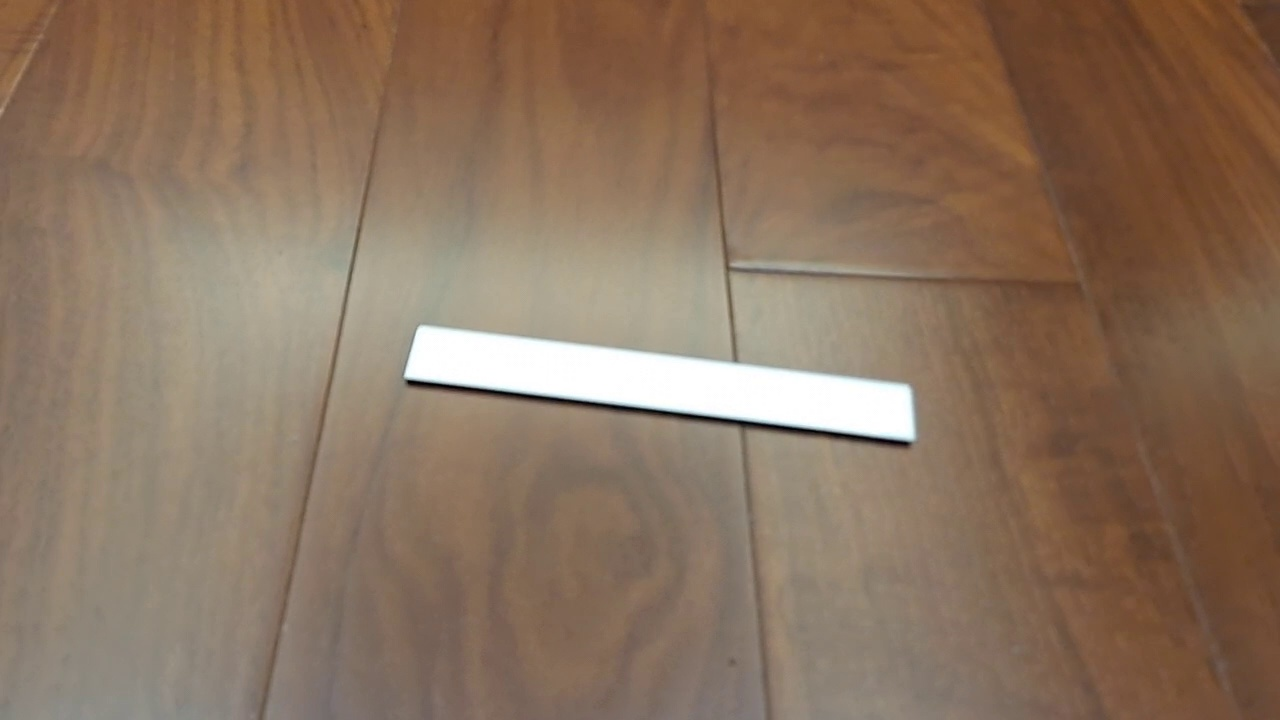ruler: (401, 322, 918, 446)
